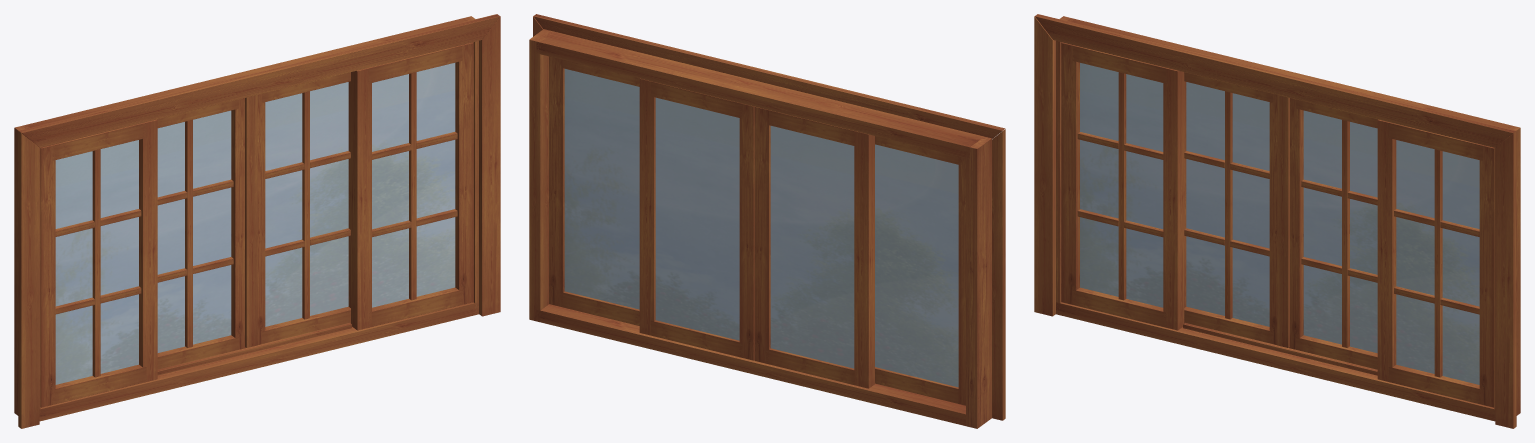
The picture shows the model from 3 angles, left to right: view 1: azimuth 30°, elevation 25°; view 2: azimuth 150°, elevation 25°; view 3: azimuth 330°, elevation 25°; orthographic projection. The views are drawn at different scales.
Visible parts, largest first — view 1: glass003, glass001, glass, glass002, trim_top, box_bottom, trim_left, trim_right, window_right001, window_right, window_left001, window_left (+20 smaller); view 2: glass003, glass002, glass, glass001, box_top, box_bottom, box_left, trim_top, box_right, window_right002, window_left002, window_right003 (+12 smaller); view 3: glass002, glass, glass001, glass003, trim_top, box_bottom, trim_right, trim_left, window_right, window_right001, window_left, window_left001 (+20 smaller).
Boxes of the visible parts, x1,y1,x2,y2 form: glass003: (265, 82, 348, 326); glass001: (372, 63, 455, 307); glass: (55, 140, 138, 384); glass002: (157, 110, 231, 352); trim_top: (19, 14, 499, 147); box_bottom: (39, 302, 478, 421); trim_left: (18, 131, 39, 428); trim_right: (479, 16, 500, 316); window_right001: (351, 67, 371, 330); window_right: (139, 119, 157, 381); window_left001: (455, 42, 473, 304); window_left: (40, 144, 55, 407); glass003: (655, 97, 739, 340); glass002: (770, 126, 854, 368); glass: (875, 144, 958, 387); glass001: (564, 69, 639, 309); box_top: (536, 31, 983, 158); box_bottom: (536, 304, 965, 425); box_left: (966, 136, 991, 428); trim_top: (533, 14, 1005, 138); box_right: (529, 29, 554, 321); window_right002: (854, 131, 874, 388); window_left002: (754, 106, 770, 363); window_right003: (639, 78, 655, 335); glass002: (1186, 82, 1269, 326); glass: (1080, 63, 1163, 307); glass001: (1396, 140, 1479, 384); glass003: (1303, 110, 1377, 353); trim_top: (1035, 14, 1515, 147); box_bottom: (1056, 302, 1495, 421); trim_right: (1495, 131, 1516, 428); trim_left: (1034, 16, 1055, 316); window_right: (1163, 67, 1184, 330); window_right001: (1377, 119, 1396, 381); window_left: (1061, 42, 1079, 305); window_left001: (1479, 144, 1494, 407).
Bounding box in the file's own units: 65 × 38.36 × 4.25.
7 materials, 7 textured.
